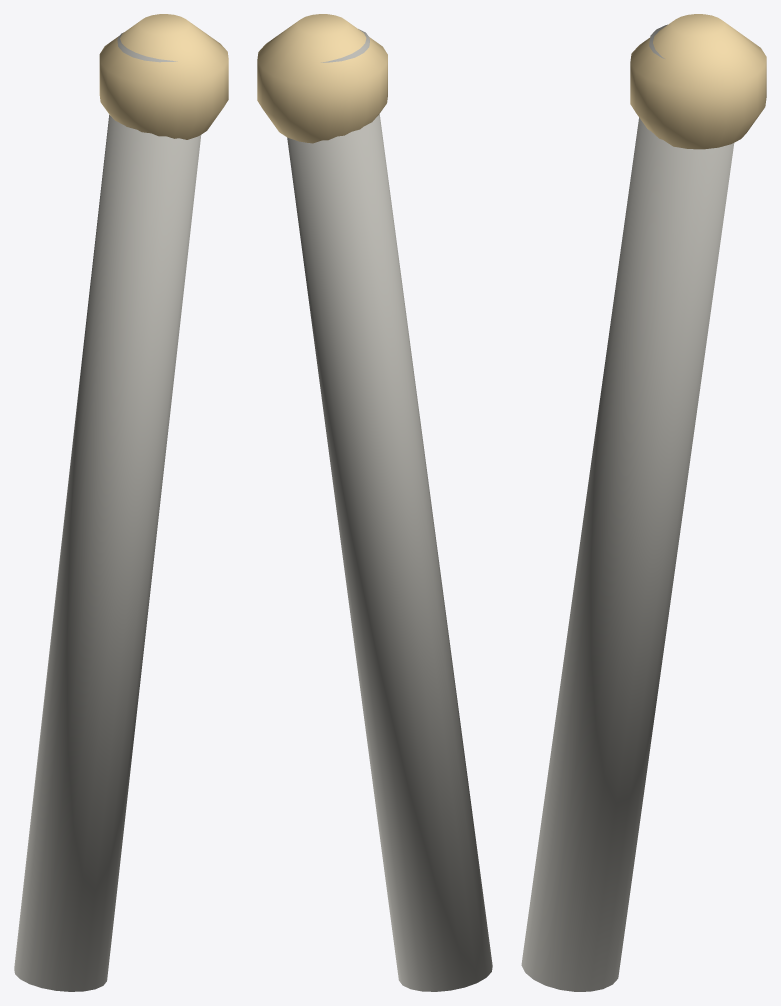
The model's file is marker-post-03.glb.
3 renders of one model, left to right at view 1: azimuth 30°, elevation 25°; view 2: azimuth 150°, elevation 25°; view 3: azimuth 330°, elevation 25°, orthographic. The views are drawn at different scales.
Parts seen in each view (by area): view 1: default; view 2: default; view 3: default.
Part boxes in pixels (bbox=[...]): default: bbox=[14, 14, 228, 991]; default: bbox=[257, 14, 492, 991]; default: bbox=[521, 14, 766, 991].
Size of the model in its own units: 0.3344 by 1.41 by 0.18.
